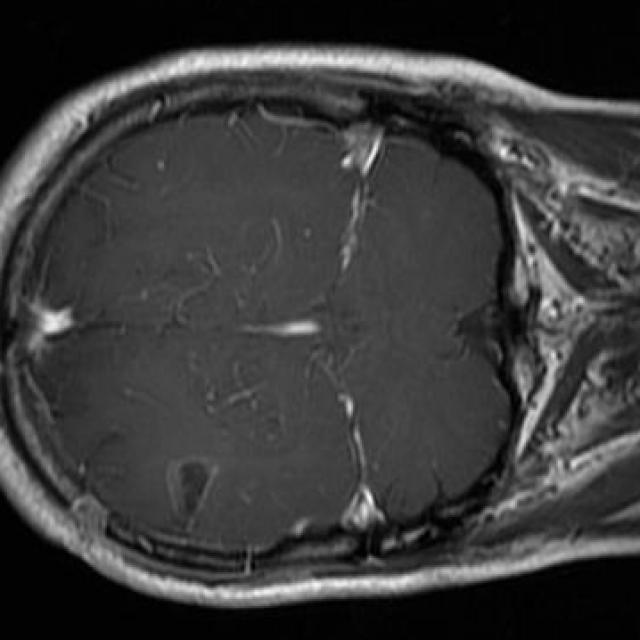glioma: (168, 458, 219, 522)
